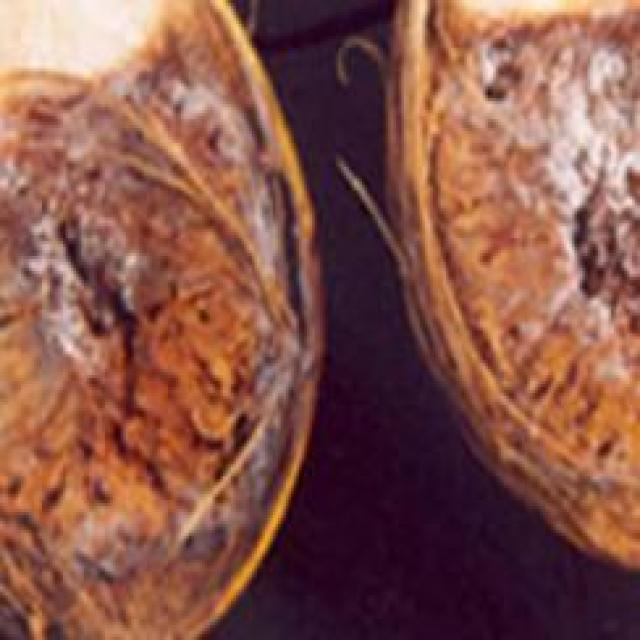damaged: (0, 0, 325, 637), (375, 0, 637, 577)
